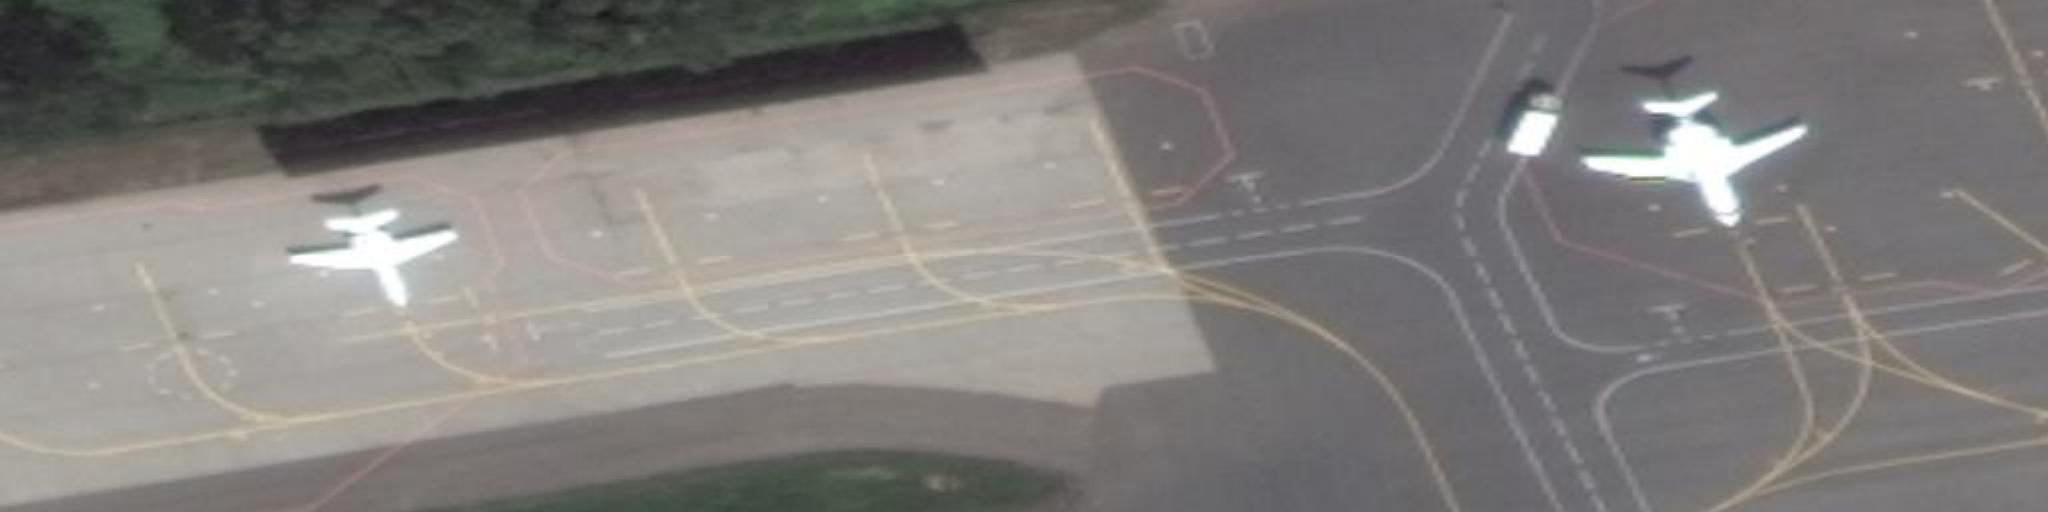plane: (1571, 74, 1831, 238), (287, 202, 472, 320)
